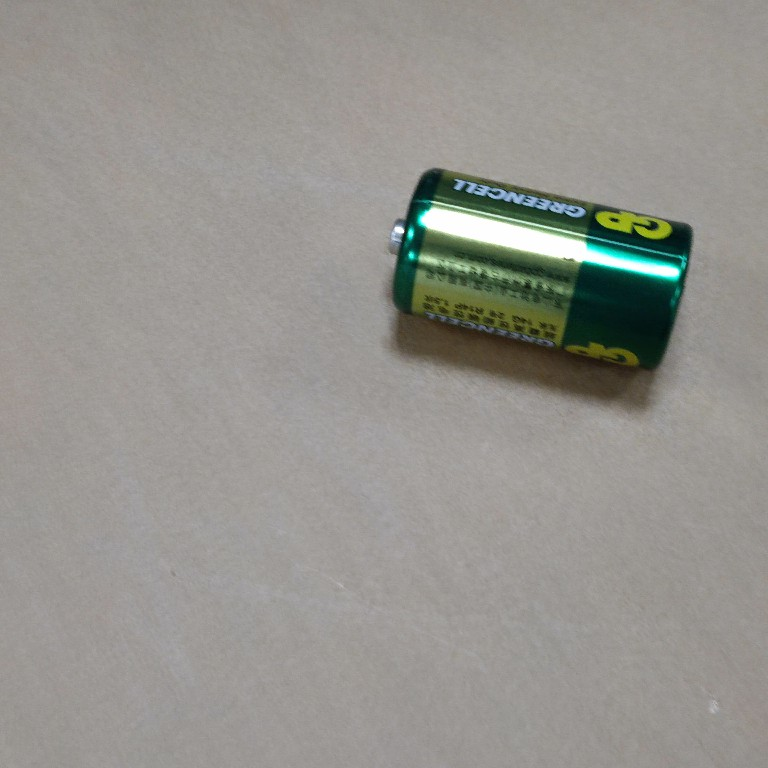charge: (385, 162, 699, 375)
